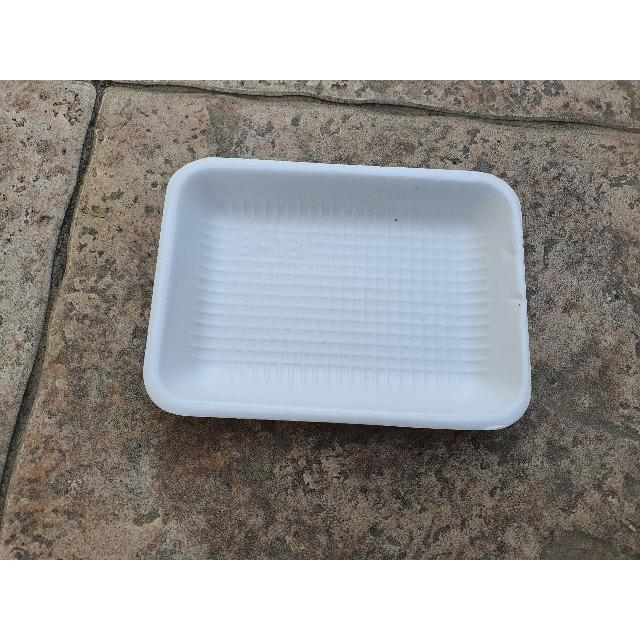Plastico descartable: (142, 158, 533, 433)
